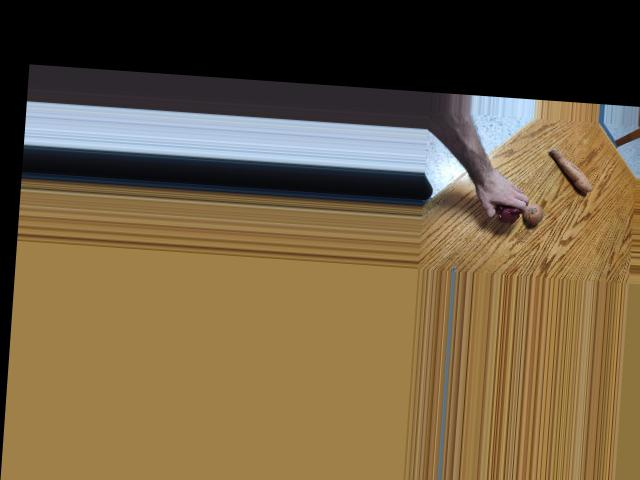onion: (519, 203, 542, 227)
